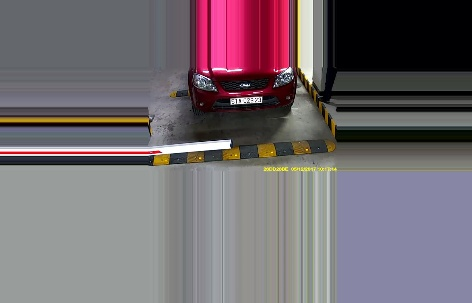plate: (231, 92, 265, 107)
